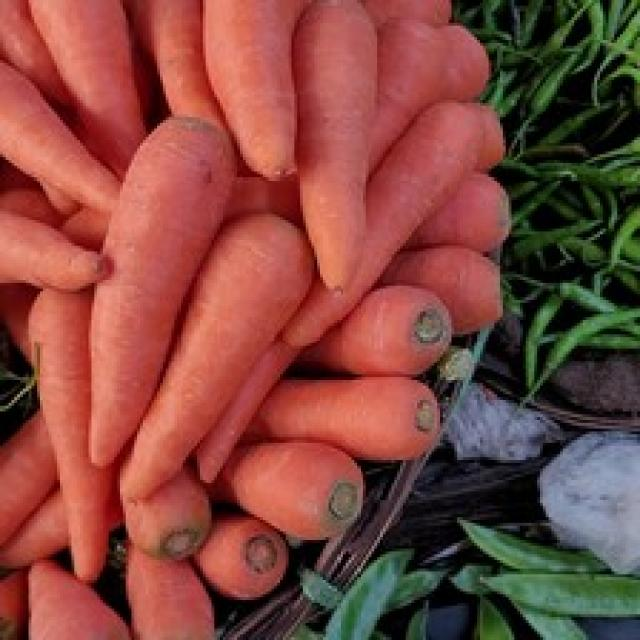Fresh_Carrot: (110, 208, 313, 474), (255, 139, 499, 359), (21, 295, 117, 574), (281, 0, 366, 304), (104, 109, 169, 437)
